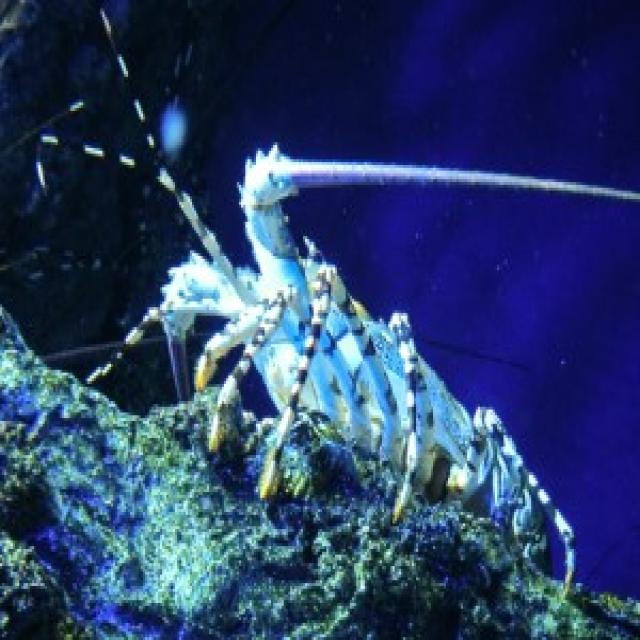lobsters: (117, 88, 640, 626)
